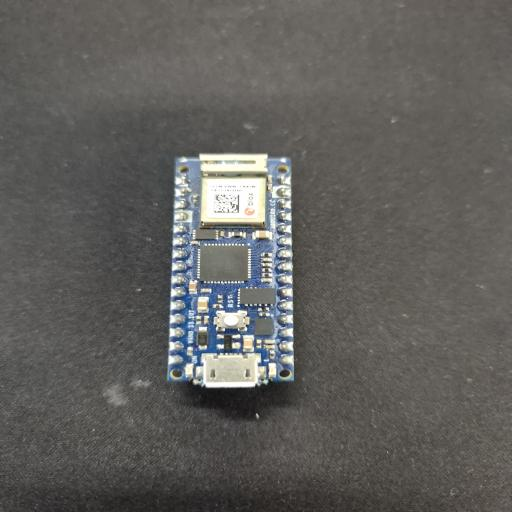arduino-nano-iot-33: (168, 154, 294, 388)
